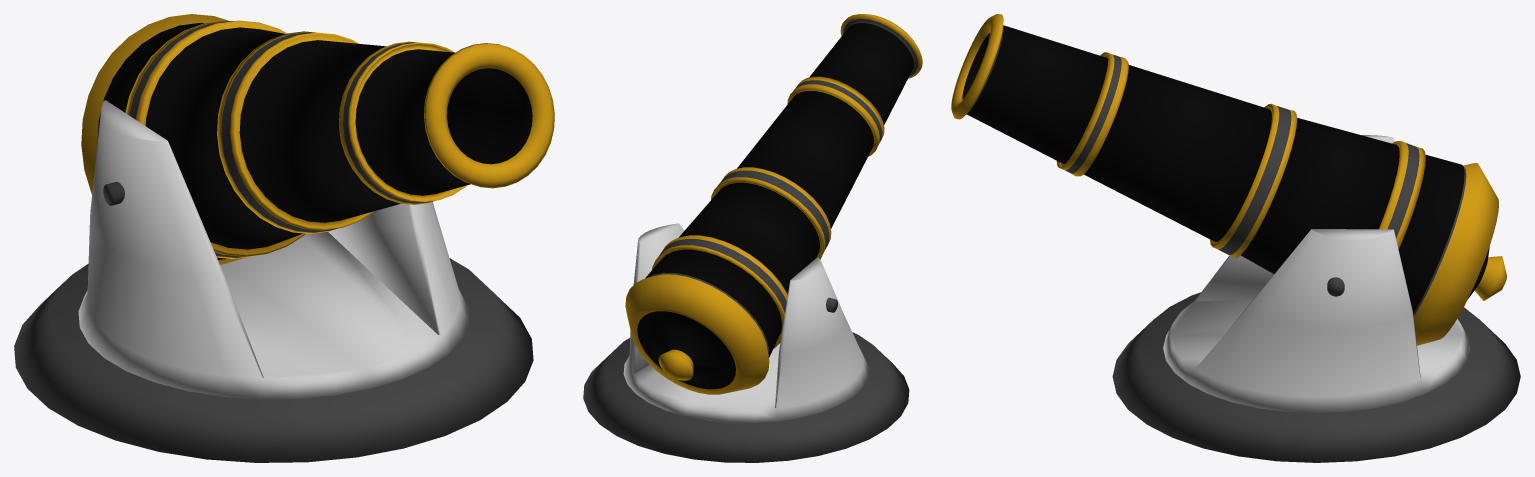
Rendered from cannon.obj.
3 views of the same model, side by side, from view 1: azimuth 30°, elevation 25°; view 2: azimuth 150°, elevation 25°; view 3: azimuth 270°, elevation 25° (orthographic). The views are drawn at different scales.
Visible parts, largest first — view 1: Cylinder, Circle, Cylinder.001; view 2: Cylinder, Circle, Cylinder.001; view 3: Cylinder, Circle, Cylinder.001.
Boxes of the visible parts, <box> form: Cylinder: <box>81,14,554,264</box>; Circle: <box>78,100,468,399</box>; Cylinder.001: <box>14,258,533,462</box>; Cylinder: <box>625,14,922,394</box>; Circle: <box>623,223,868,422</box>; Cylinder.001: <box>583,332,909,462</box>; Cylinder: <box>951,14,1506,345</box>; Circle: <box>1163,135,1469,412</box>; Cylinder.001: <box>1112,292,1520,462</box>.
Size of the model in its own units: 2.53 by 2.45 by 3.53.
